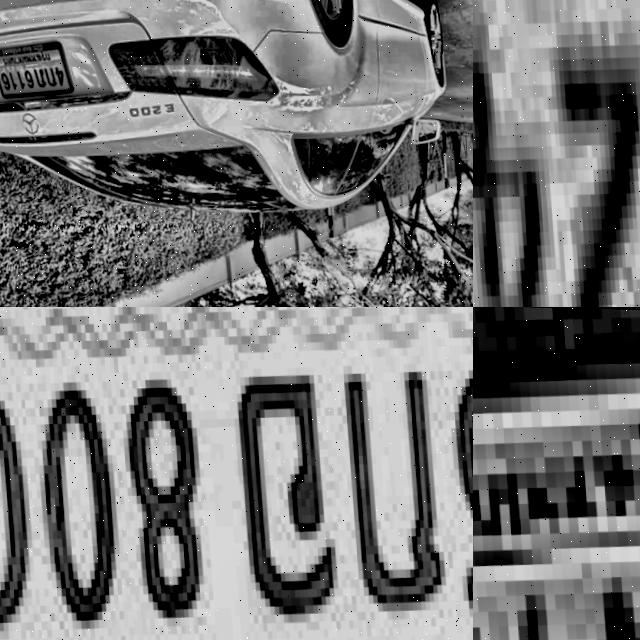license-plate: (0, 307, 473, 640), (473, 0, 640, 307), (473, 343, 640, 640), (0, 36, 72, 102)
